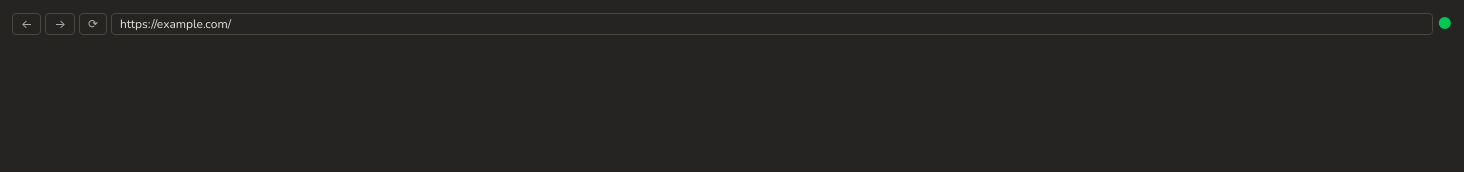
Test: BrowserToolbar › shows a refusal instead of swallowing it, and clears it on the next try
This screenshot has width=1464, height=172.
Click the button named "刷新": (93, 24) left=79, top=13, right=107, bottom=35
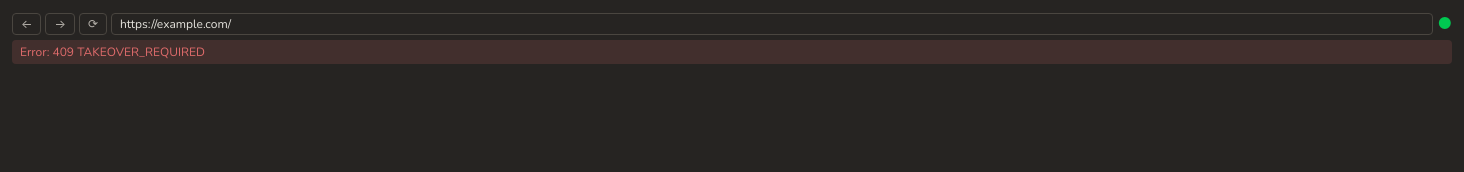
Expected: the text "Error: 409 TAKEOVER_REQUIRED" is shown, left=12, top=40, right=1452, bottom=64
Click the button named "刷新": (93, 24) left=79, top=13, right=107, bottom=35
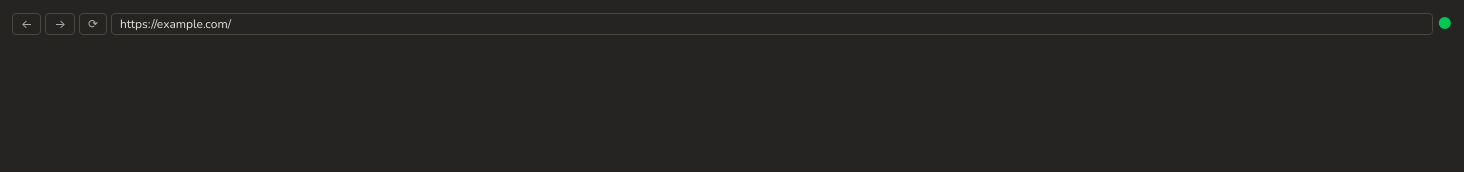
Expected: the text "TAKEOVER_REQUIRED" is gone
